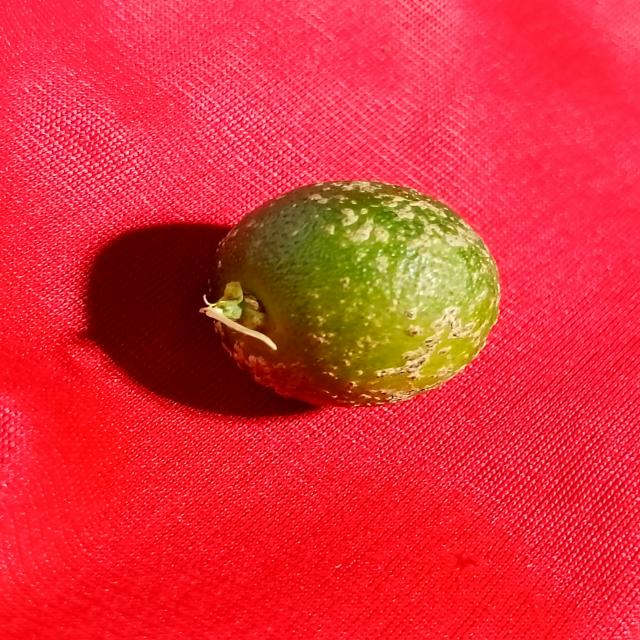scab: (222, 178, 502, 422)
